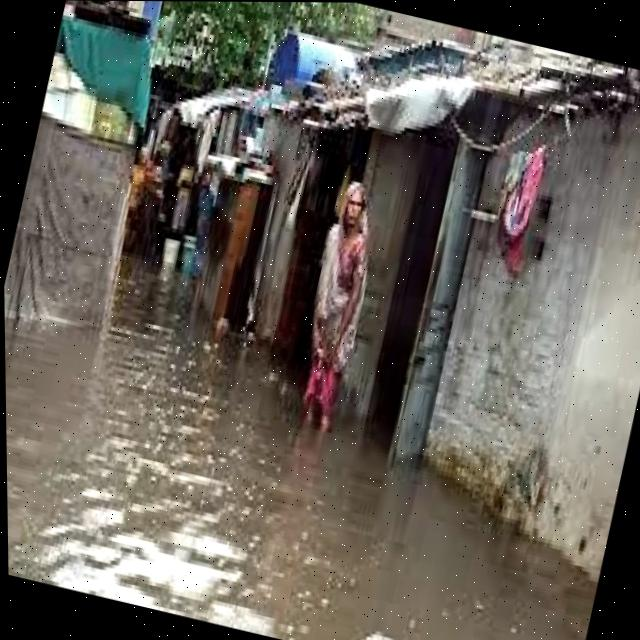civilian: (257, 162, 413, 446)
